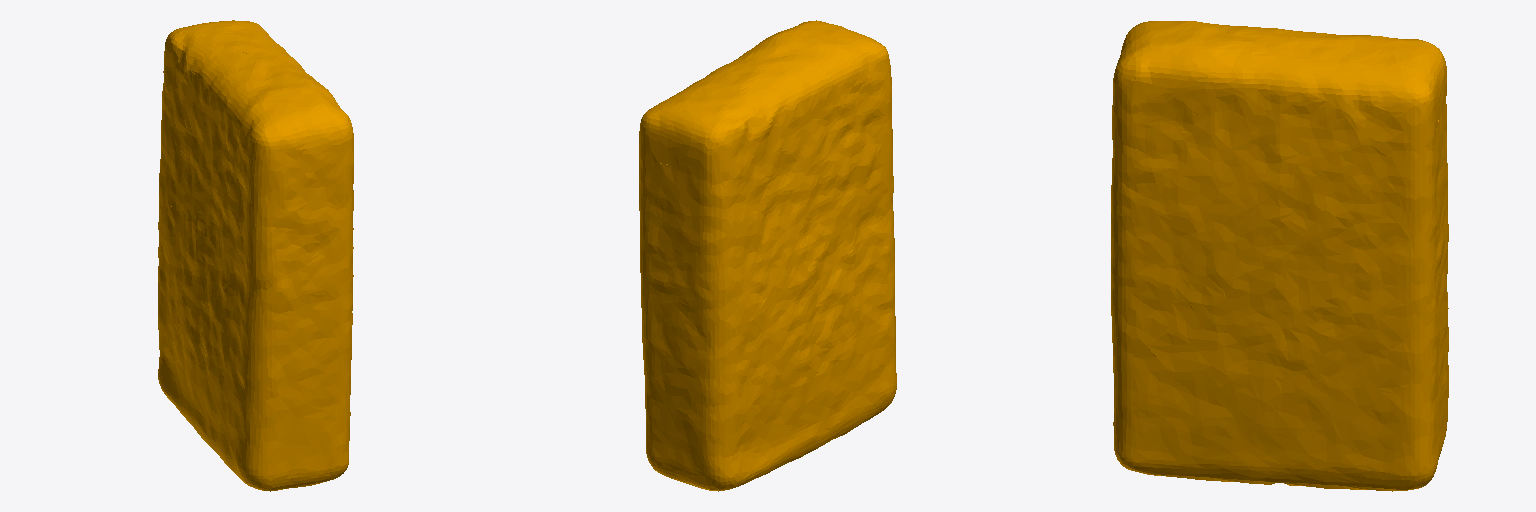
The robot description file, URDF, robot "cracker_box":
<?xml version="1.0"?>
<robot name="cracker_box">
  <link name="base_link">
    <inertial>
      <origin xyz="0.022212 -0.013760 0.118673" rpy="0 0 0" />
      <mass value="2.000000" />
      <inertia ixx="0.01262111" ixy="-0.00056384" ixz="-0.00018267"
               iyy="0.00927729" iyz="0.00003202" izz="0.00487405" />
    </inertial>
    <visual>
      <geometry><mesh filename="cracker_box.stl" scale="1.0 1.0 1.0" /></geometry>
    </visual>
    <collision>
      <geometry><mesh filename="cracker_box_col.obj" scale="1.0 1.0 1.0" /></geometry>
    </collision>
    <!-- PyBullet reads this URDF extension directly (setup/plane.urdf already
         does). Without it every object falls back to PyBullet's default 0.5,
         and since Bullet MULTIPLIES the two bodies' coefficients that left an
         effective mu of 0.25 against the fingers, which is why the grip
         force had to be pushed to 50N to hold anything. -->
    <contact>
      <lateral_friction value="1.0"/>
    </contact>
  </link>
</robot>

--- What the picture shows (computed from the rendered views, not written in the file) ---
The picture shows the robot from 3 angles, left to right: view 1: azimuth 30°, elevation 25°; view 2: azimuth 150°, elevation 25°; view 3: azimuth 270°, elevation 25°; orthographic projection.
Robot: cracker_box — 1 links, 0 joints (none); root link base_link; default pose: all joints at 0.
Links seen in each view (by area): view 1: base_link; view 2: base_link; view 3: base_link.
Link boxes in pixels (x1,y1,x2,y2): base_link: [158, 20, 353, 491]; base_link: [639, 20, 896, 491]; base_link: [1111, 21, 1448, 491].
Size in the robot's own frame: 0.0899 by 0.1677 by 0.2383 metres.
Meshes: 1 distinct files referenced, 1 mesh visuals loaded (1 binary STL).
